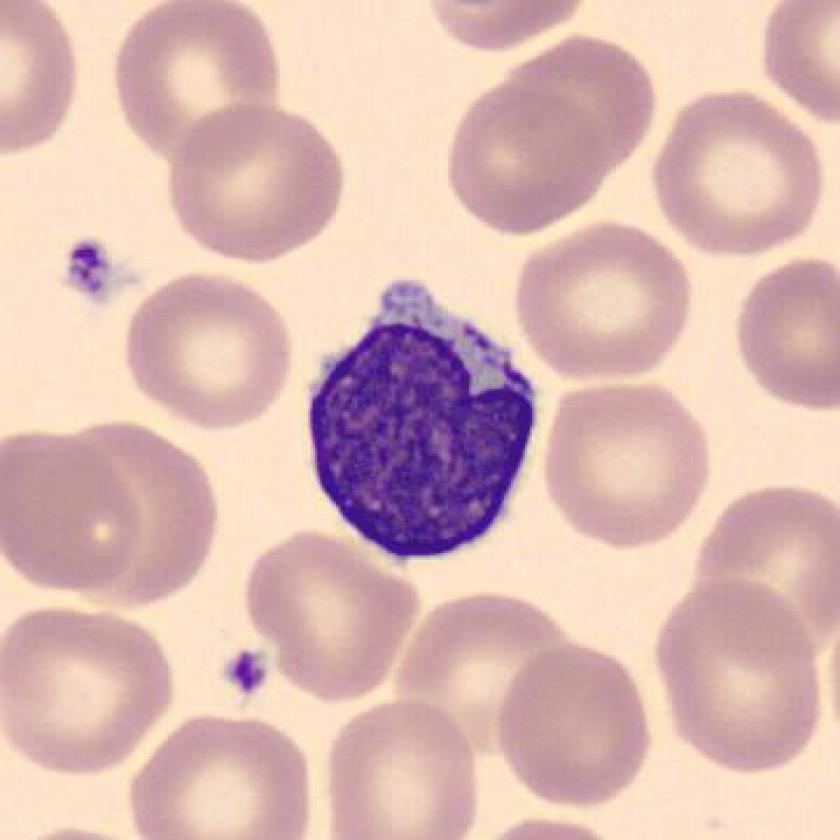lymphocyte: (300, 267, 552, 580)
